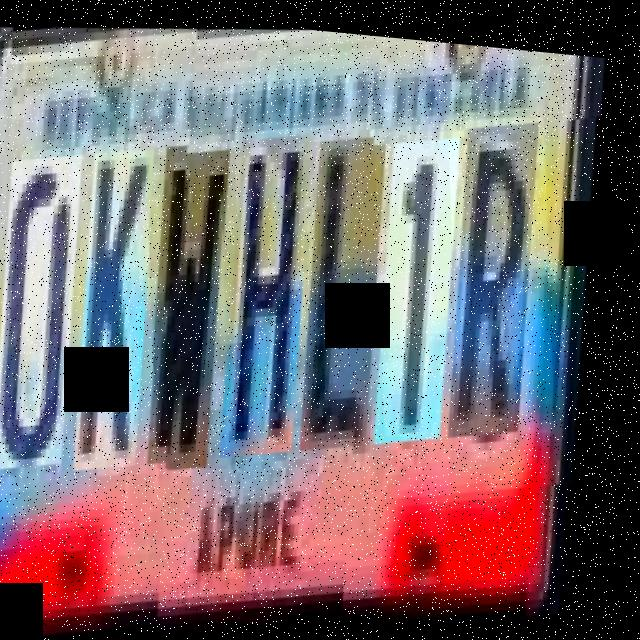0: (0, 147, 113, 477)
1: (362, 115, 491, 434)
H: (208, 119, 345, 456)
K: (60, 141, 189, 478)
L: (287, 122, 418, 450)
R: (435, 100, 571, 429)
W: (134, 135, 263, 471)
